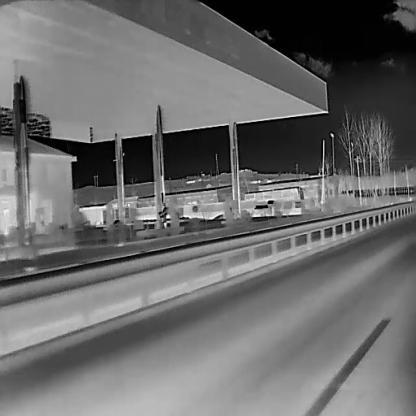car: (243, 185, 306, 203)
